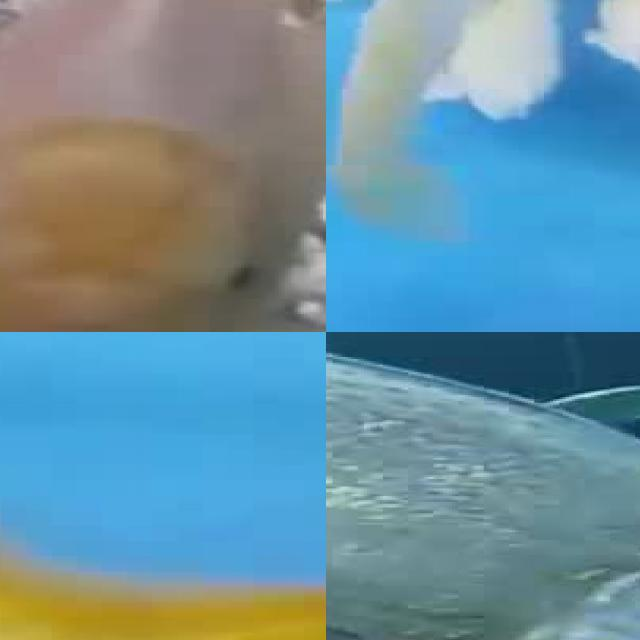fish: (0, 0, 326, 332), (326, 332, 640, 640)
